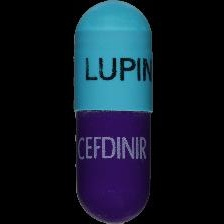68180-711: (0, 0, 224, 224)
